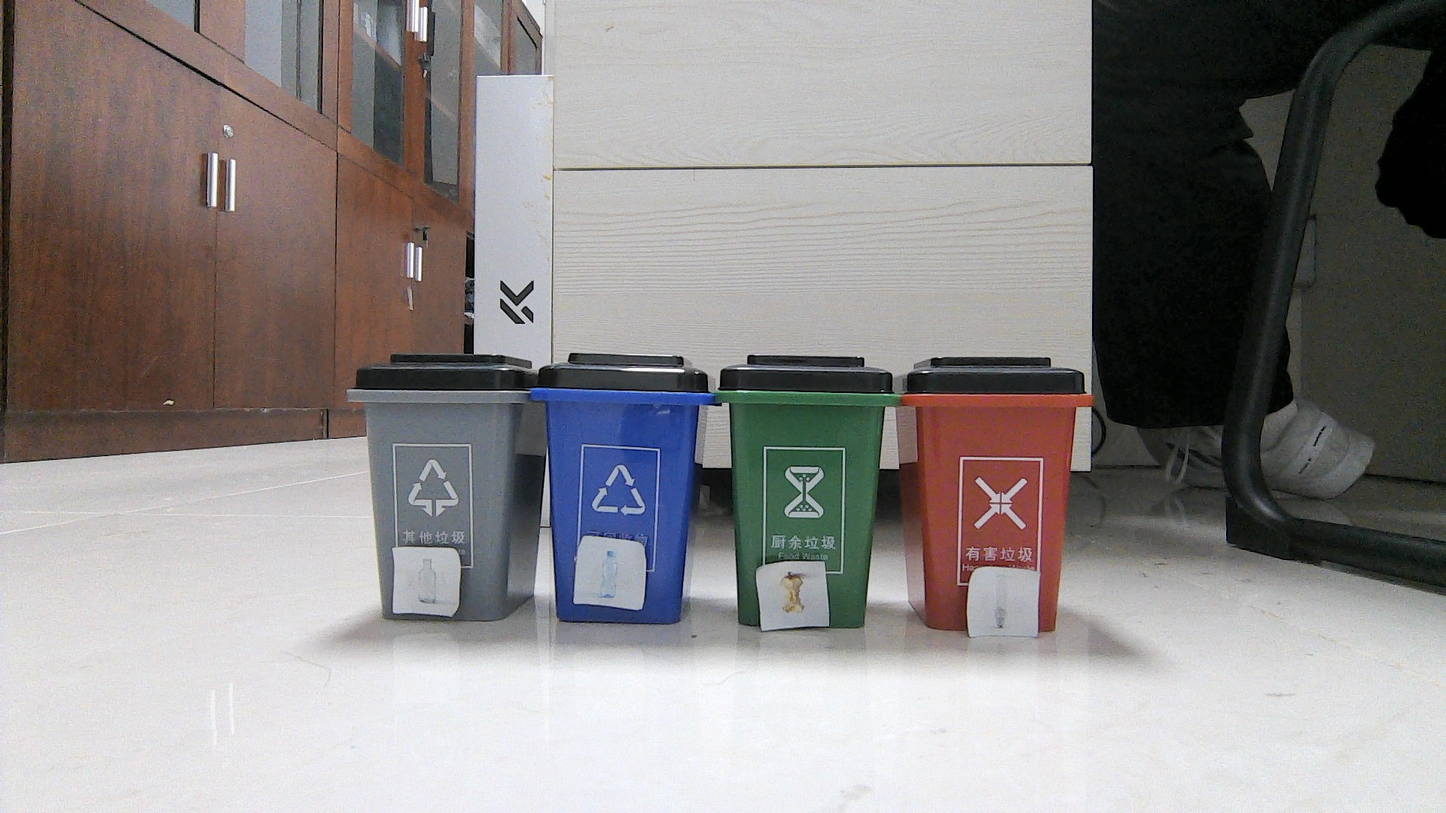food_trash: (763, 566, 824, 626)
hazardous_trash: (978, 571, 1027, 632)
recyclable_trash: (583, 541, 632, 604), (405, 552, 454, 607)
